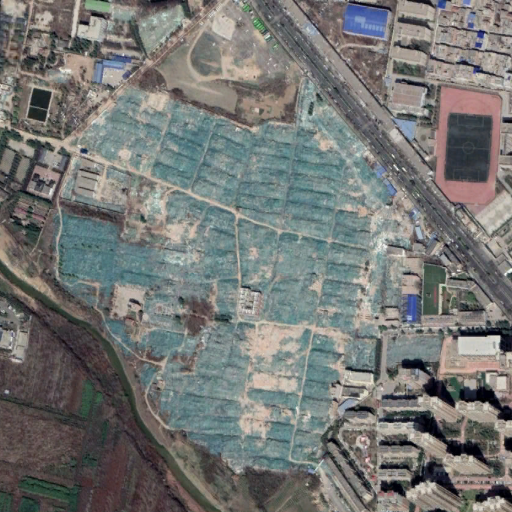cw: (58, 84, 444, 469), (135, 4, 191, 57)
